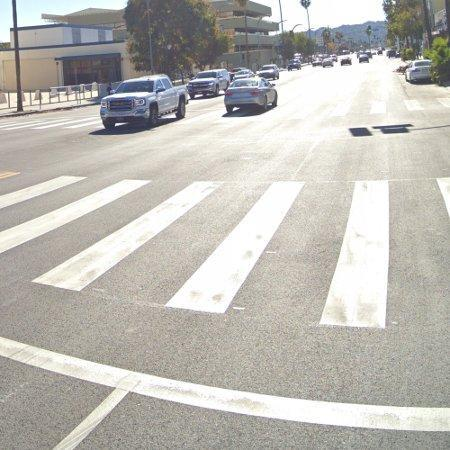crosswalks: (0, 171, 450, 332)
